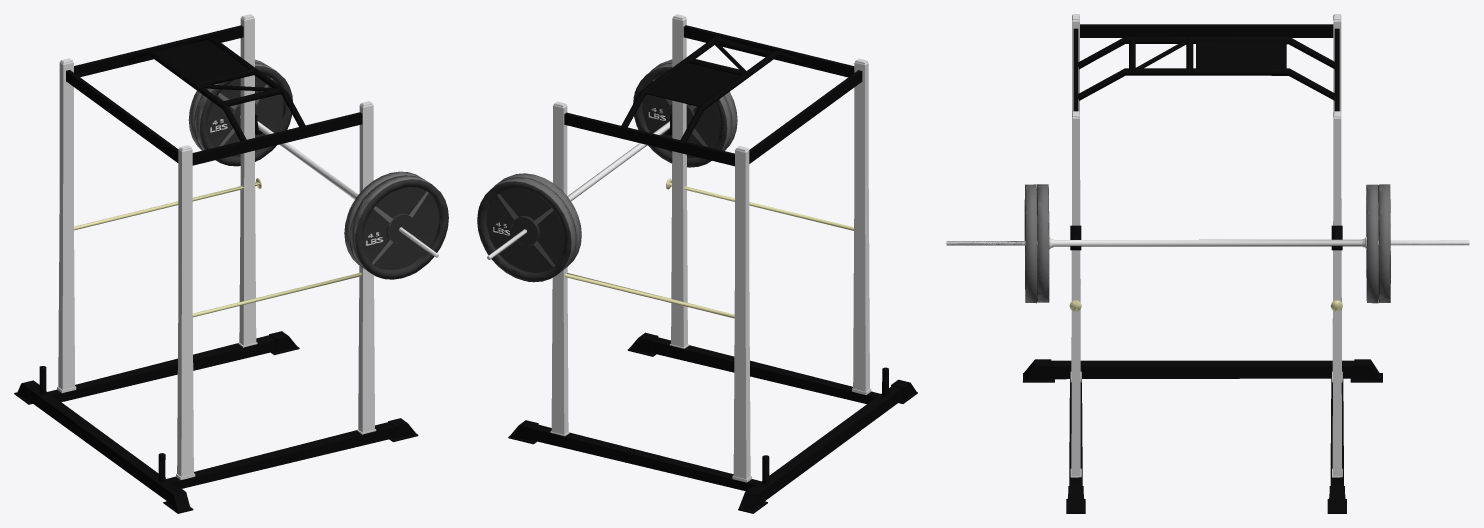
File: legrack.fbx
3 views of the same model, side by side, from view 1: azimuth 30°, elevation 25°; view 2: azimuth 150°, elevation 25°; view 3: azimuth 270°, elevation 25° (orthographic). The views are drawn at different scales.
Visible parts, largest first — view 1: StrBar_LOD3; view 2: StrBar_LOD3; view 3: StrBar_LOD3.
Part boxes in pixels (x1=…): StrBar_LOD3: x1=14, y1=14, x2=448, y2=513; StrBar_LOD3: x1=477, y1=14, x2=917, y2=513; StrBar_LOD3: x1=946, y1=14, x2=1469, y2=513.
Size of the model in its own units: 221 by 273 by 334.
